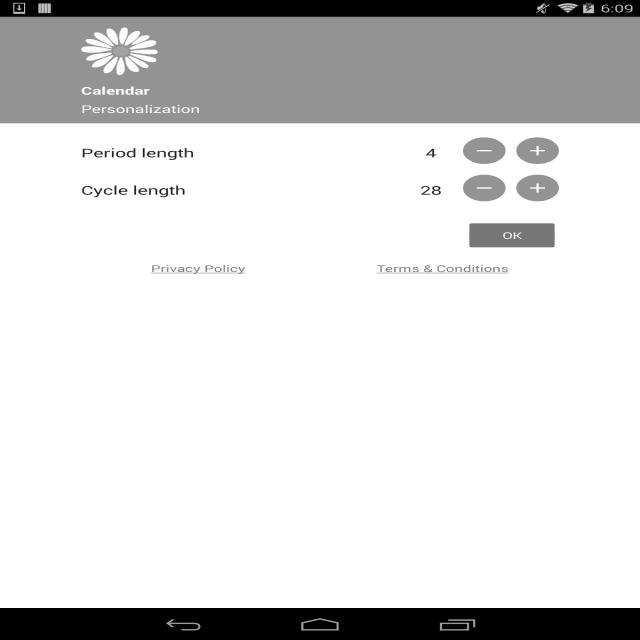Button: (470, 223, 566, 245)
ImageButton: (460, 172, 512, 204), (514, 174, 567, 202), (516, 136, 566, 164), (464, 138, 504, 166)
ImageView: (84, 30, 175, 76)
TextView: (362, 256, 508, 278), (73, 101, 205, 118), (70, 148, 220, 160), (141, 262, 256, 276), (70, 81, 160, 96), (83, 184, 186, 197), (418, 148, 449, 167), (413, 180, 445, 198)
